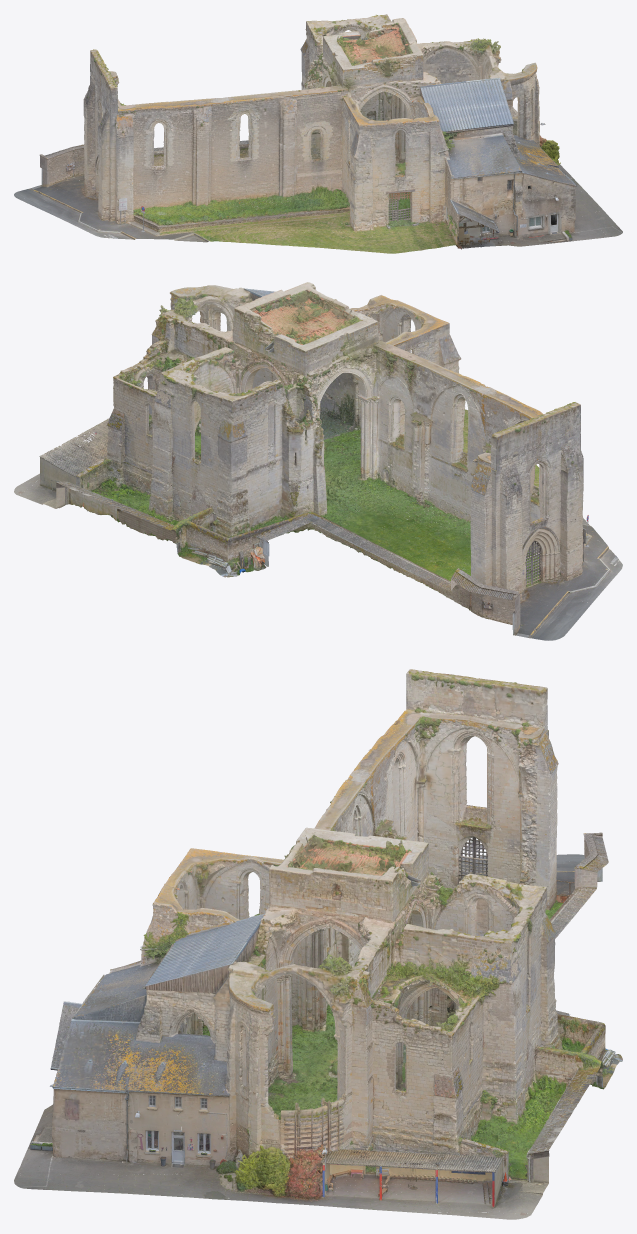
Rendered from saint-denis.glb.
3 renders of one model, top to bottom at view 1: azimuth 30°, elevation 25°; view 2: azimuth 150°, elevation 25°; view 3: azimuth 270°, elevation 25°, orthographic. The views are drawn at different scales.
Parts seen in each view (by area): view 1: Object_7, Object_32, Object_33, Object_19, Object_6, Object_12, Object_21, Object_14, Object_4, Object_27, Object_25, Object_20 (+8 smaller); view 2: Object_20, Object_25, Object_6, Object_27, Object_7, Object_10, Object_33, Object_18, Object_32, Object_28, Object_12, Object_19 (+8 smaller); view 3: Object_12, Object_27, Object_21, Object_2, Object_19, Object_10, Object_18, Object_33, Object_28, Object_25, Object_32, Object_20 (+8 smaller).
Part boxes in pixels (x1,y1,x2,y2): Object_7: [20, 20, 527, 245]; Object_32: [251, 40, 533, 253]; Object_33: [90, 21, 602, 252]; Object_19: [98, 56, 606, 243]; Object_6: [55, 70, 396, 239]; Object_12: [69, 14, 561, 199]; Object_21: [303, 20, 561, 174]; Object_14: [289, 86, 529, 248]; Object_4: [144, 47, 534, 226]; Object_27: [14, 71, 608, 238]; Object_25: [83, 40, 539, 242]; Object_20: [83, 20, 622, 237]; Object_20: [14, 379, 539, 576]; Object_25: [146, 287, 537, 566]; Object_6: [326, 406, 622, 602]; Object_27: [110, 385, 566, 640]; Object_7: [198, 347, 604, 633]; Object_10: [113, 295, 415, 559]; Object_33: [175, 298, 582, 577]; Object_18: [49, 359, 582, 578]; Object_32: [156, 285, 468, 477]; Object_28: [39, 282, 538, 573]; Object_12: [153, 291, 539, 617]; Object_19: [235, 327, 583, 570]; Object_12: [103, 751, 608, 1093]; Object_27: [16, 724, 607, 1175]; Object_21: [145, 852, 442, 1207]; Object_2: [35, 940, 548, 1213]; Object_19: [20, 710, 570, 1176]; Object_10: [143, 838, 606, 1154]; Object_18: [215, 837, 580, 1194]; Object_33: [52, 669, 622, 1196]; Object_28: [139, 851, 549, 1200]; Object_25: [202, 770, 562, 1110]; Object_32: [75, 797, 400, 1123]; Object_20: [14, 706, 604, 1219].
Bounding box in the file's own units: 61.82 × 19.28 × 45.07.
20 materials, 20 textured.
